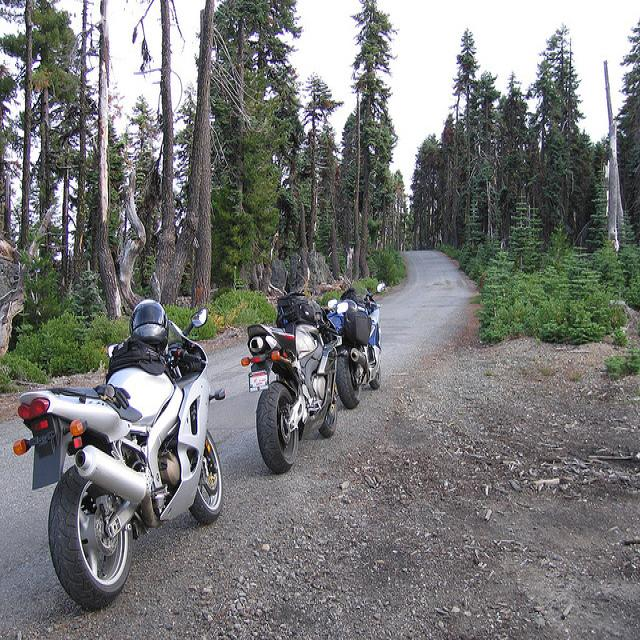motor: (4, 265, 231, 608), (240, 277, 349, 477), (340, 291, 384, 407)
